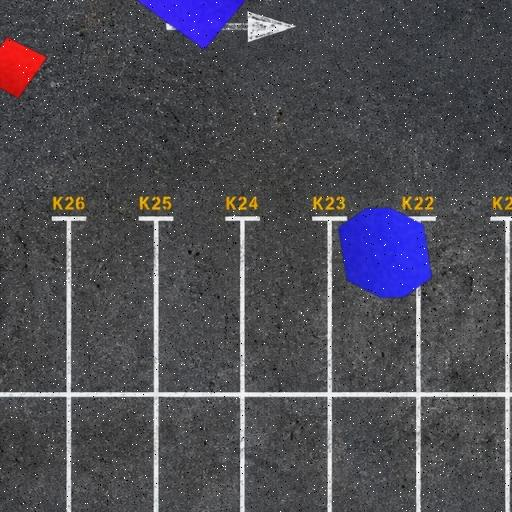BLUE_SQUARE: (130, 0, 267, 50)
RED_SQUARE: (0, 37, 48, 99)
